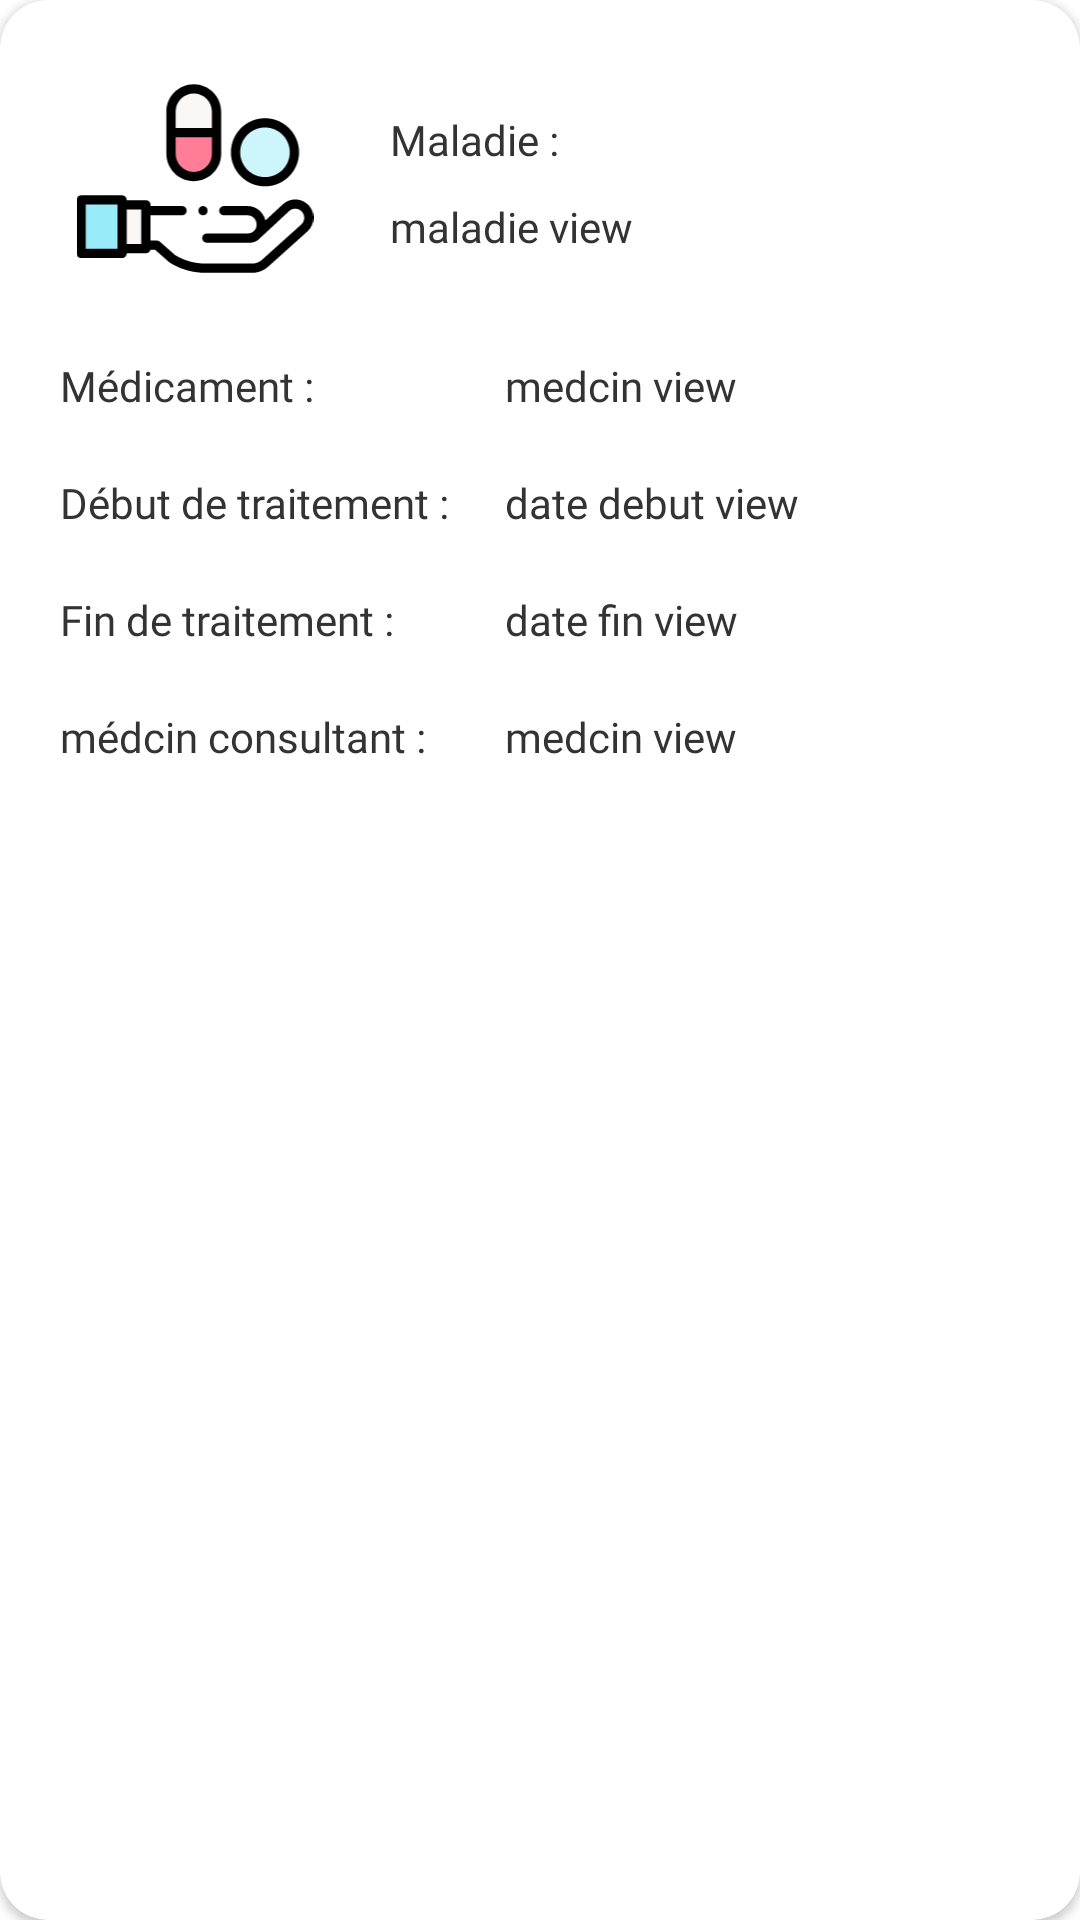

Icons on this 1080×1920 Android screen, each with its box as (x1, y1, x2, y2):
treatment pills: (77, 84, 314, 273)
